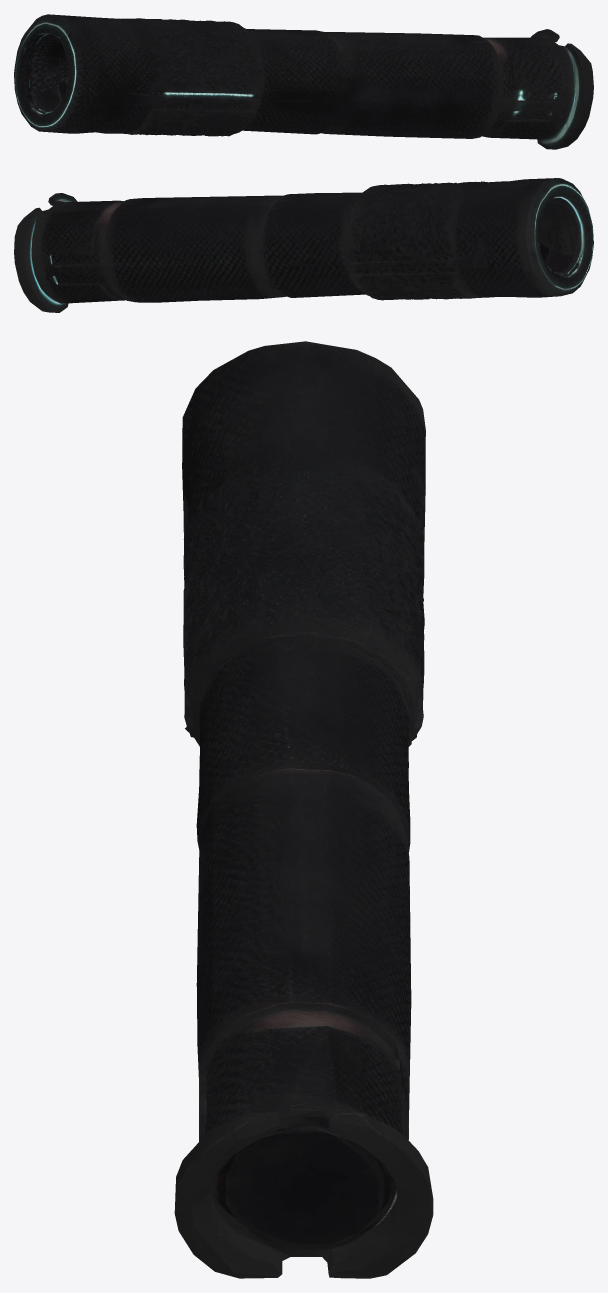
File: mod_ghost.glb
3 views of the same model, one above another, from view 1: azimuth 30°, elevation 25°; view 2: azimuth 150°, elevation 25°; view 3: azimuth 270°, elevation 25° (orthographic). The views are drawn at different scales.
Size of the model in its own units: 1.9 by 0.7965 by 0.3943.
Materials: 1 (1 with a texture image).
